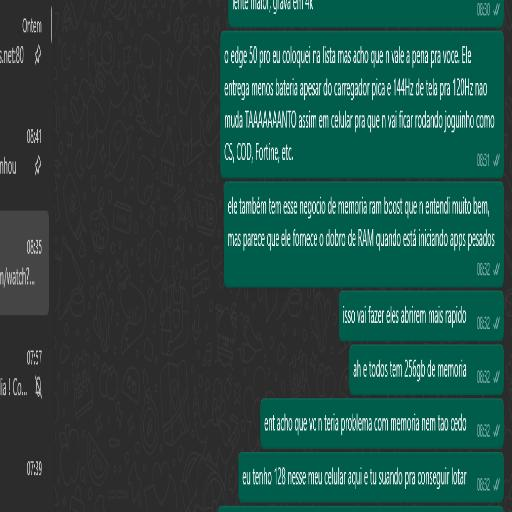mensagem-enviada: (349, 344, 504, 394)
